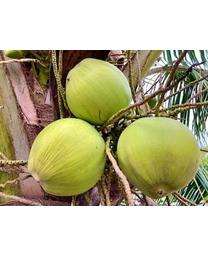coconut: (117, 115, 199, 197), (23, 119, 110, 190), (66, 59, 132, 123)
